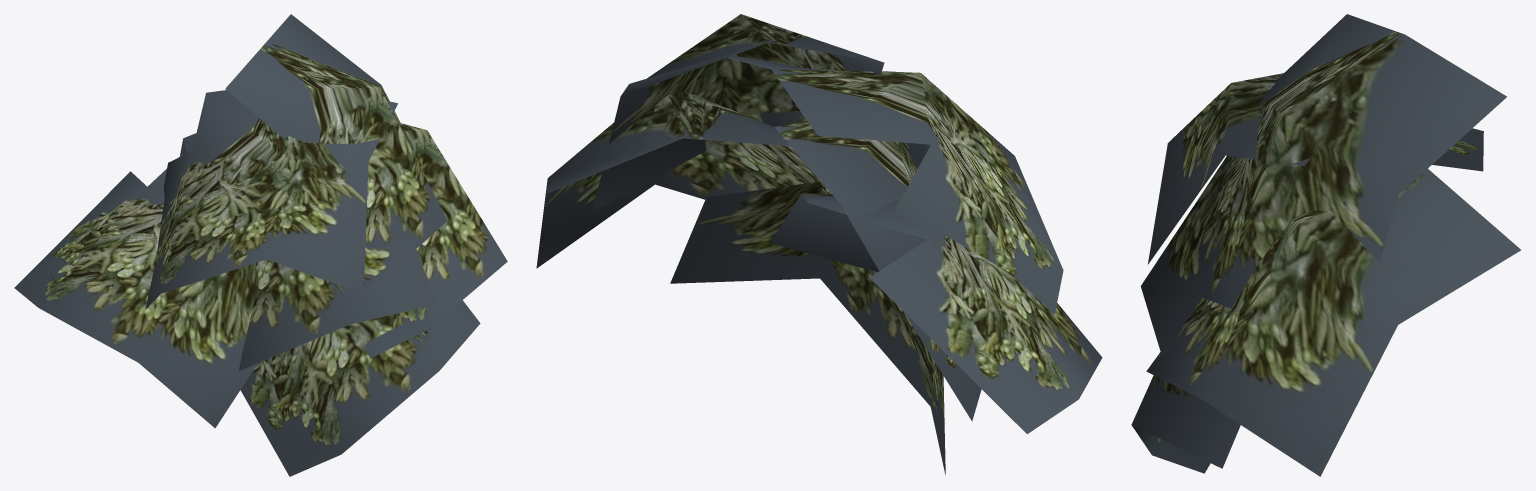
The model's file is pir_m_prp_dvj_seaweed_e.fbx.
3 renders of one model, left to right at view 1: azimuth 30°, elevation 25°; view 2: azimuth 150°, elevation 25°; view 3: azimuth 270°, elevation 25°, orthographic. The views are drawn at different scales.
Visible parts, largest first — view 1: seaweed7, seaweed11, seaweed8, seaweed10, seaweed12, seaweed9, seaweed5, seaweed3, seaweed2, seaweed1, seaweed6, seaweed4; view 2: seaweed11, seaweed7, seaweed9, seaweed10, seaweed8, seaweed12, seaweed1, seaweed3, seaweed2, seaweed5, seaweed4, seaweed6; view 3: seaweed9, seaweed8, seaweed7, seaweed1, seaweed10, seaweed12, seaweed4, seaweed5, seaweed3, seaweed6, seaweed11.
Boxes of the visible parts, x1,y1,x2,y2 form: seaweed7: (145, 90, 397, 309); seaweed11: (14, 154, 259, 428); seaweed8: (225, 14, 446, 249); seaweed10: (240, 300, 480, 476); seaweed12: (183, 133, 436, 370); seaweed9: (364, 123, 507, 357); seaweed5: (146, 95, 368, 308); seaweed3: (266, 305, 473, 475); seaweed2: (18, 155, 258, 424); seaweed1: (368, 131, 501, 357); seaweed6: (180, 139, 429, 369); seaweed4: (227, 46, 445, 248); seaweed11: (770, 193, 1102, 434); seaweed7: (727, 55, 1063, 314); seaweed9: (536, 91, 874, 275); seaweed10: (670, 181, 945, 475); seaweed8: (592, 14, 925, 211); seaweed12: (760, 111, 981, 421); seaweed1: (542, 93, 868, 269); seaweed3: (679, 198, 945, 474); seaweed2: (810, 200, 1101, 432); seaweed5: (784, 69, 1061, 313); seaweed4: (597, 15, 882, 203); seaweed6: (760, 114, 980, 418); seaweed9: (1146, 168, 1520, 476); seaweed8: (1198, 14, 1506, 308); seaweed7: (1147, 73, 1310, 264); seaweed1: (1148, 174, 1424, 475); seaweed10: (1131, 375, 1240, 473); seaweed12: (1140, 155, 1232, 358); seaweed4: (1199, 17, 1404, 307); seaweed5: (1148, 73, 1282, 262); seaweed3: (1133, 395, 1238, 472); seaweed6: (1142, 252, 1208, 340); seaweed11: (1432, 128, 1483, 171).
Size of the model in its own units: 883 by 710 by 530.
1 material, 1 textured.
